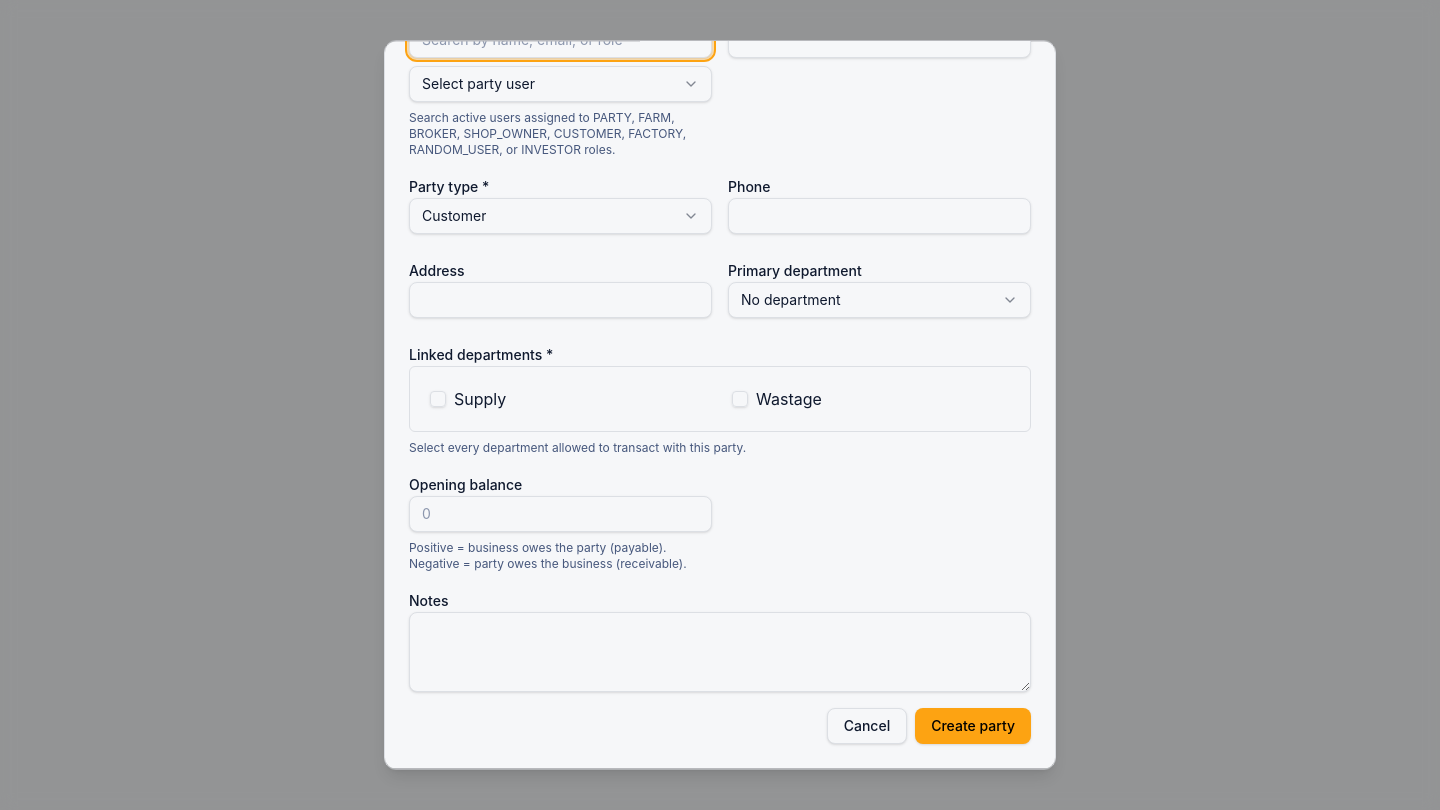
PartyFormDialog › shows a validation error when name is empty on submit
(page scrolled)
// Clear the name field (it starts empty) and submit
Click the button "Create party" at (973, 726), box [915, 708, 1031, 744]
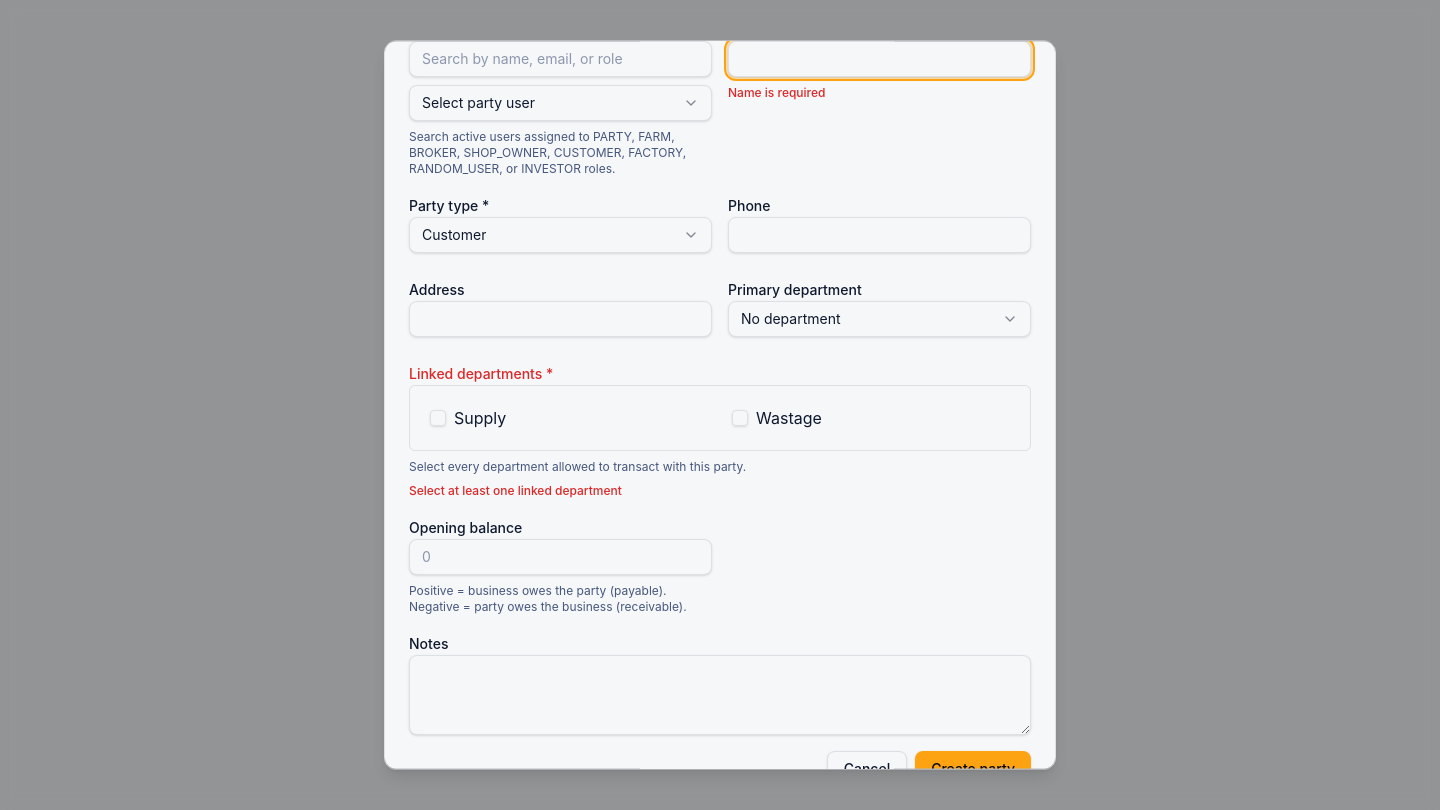
Expected: the text "Name is required" is shown, [728, 85, 826, 100]
